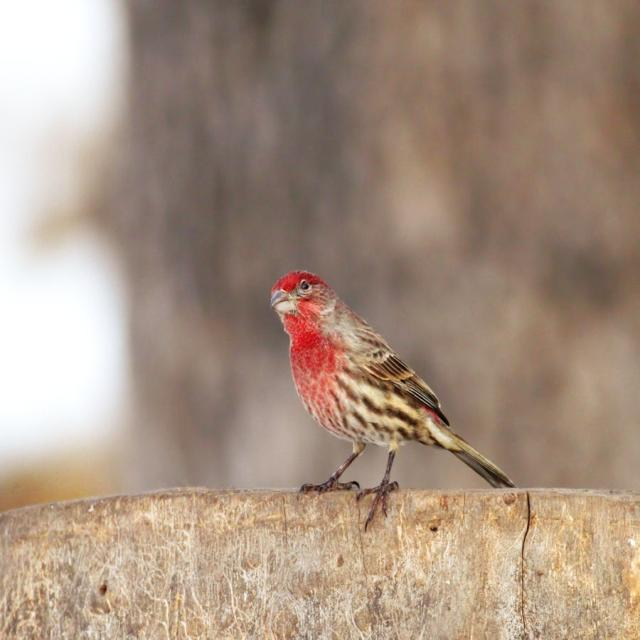bird: (271, 274, 547, 512)
